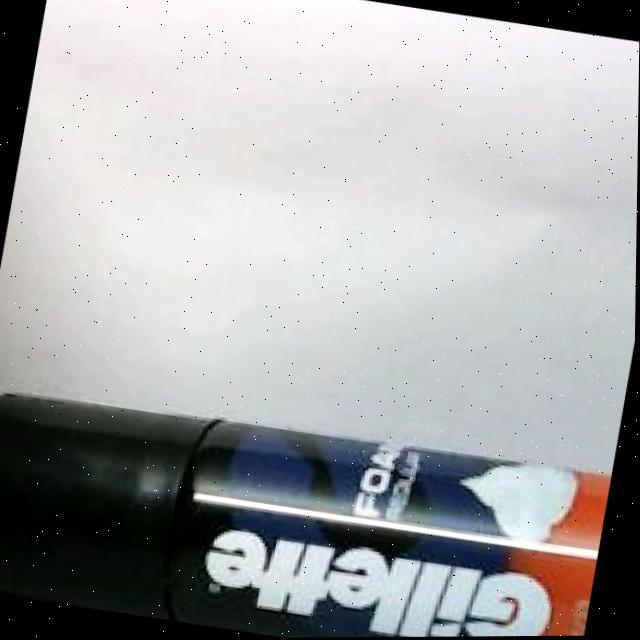gillette-foam: (0, 395, 613, 638)
